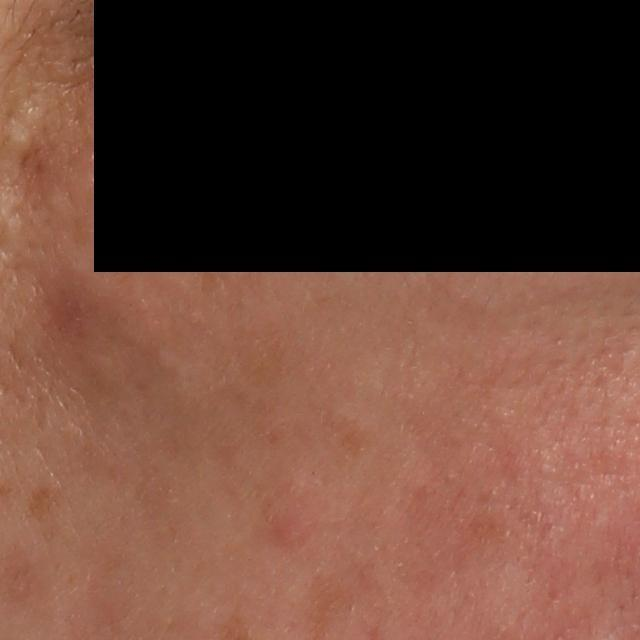hypertrophic_scar: (0, 100, 46, 154)
